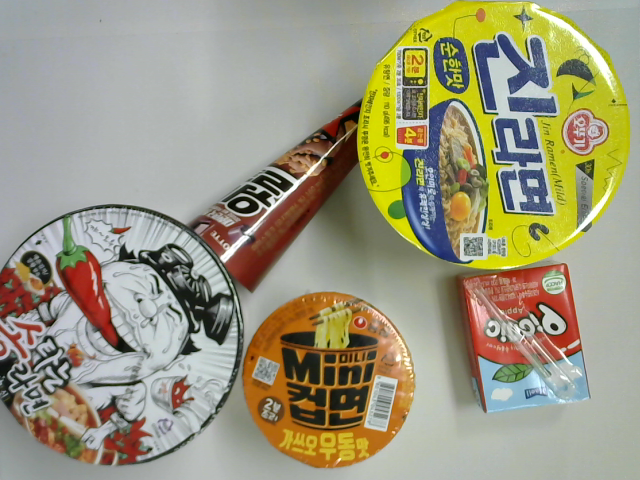HeJangsock: (1, 201, 251, 465)
Jinlamyeon_Mild_Taste_Large_Cup: (349, 1, 639, 276)
Picnic_Apple: (453, 259, 599, 426)
Udongmini: (240, 284, 422, 479)
World_Cone_Choco: (165, 79, 402, 305)
